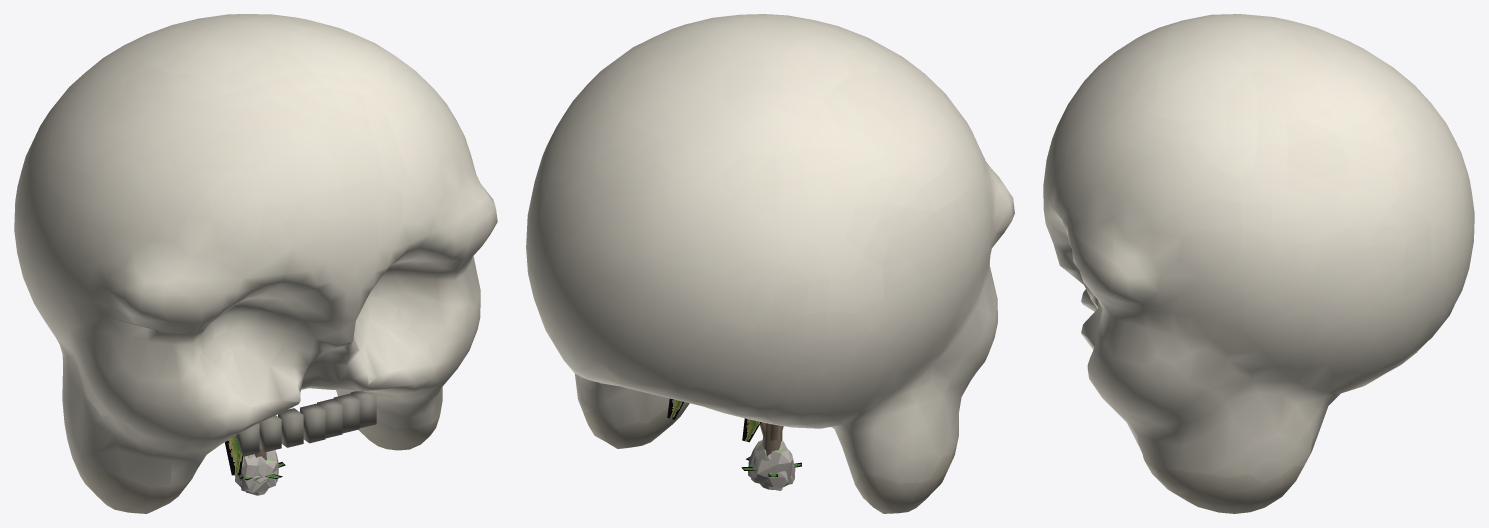
The model's file is nature_kit_low.webp.glb.
The picture shows the model from 3 angles, left to right: view 1: azimuth 30°, elevation 25°; view 2: azimuth 150°, elevation 25°; view 3: azimuth 270°, elevation 25°; orthographic projection. The views are drawn at different scales.
Parts seen in each view (by area): view 1: skull_LOD1, cliff1_LOD1, cliff0_LOD1; view 2: skull_LOD1, cliff1_LOD1, cliff0_LOD1; view 3: skull_LOD1.
Boxes of the visible parts, left/top/right/bottom form: skull_LOD1: left=14, top=14, right=497, bottom=513; cliff1_LOD1: left=238, top=450, right=278, bottom=493; cliff0_LOD1: left=235, top=456, right=277, bottom=490; skull_LOD1: left=526, top=14, right=1014, bottom=513; cliff1_LOD1: left=748, top=440, right=793, bottom=487; cliff0_LOD1: left=751, top=444, right=795, bottom=487; skull_LOD1: left=1043, top=14, right=1474, bottom=513.
Size of the model in its own units: 31.88 by 34.32 by 31.34.
1 material, 1 textured.
